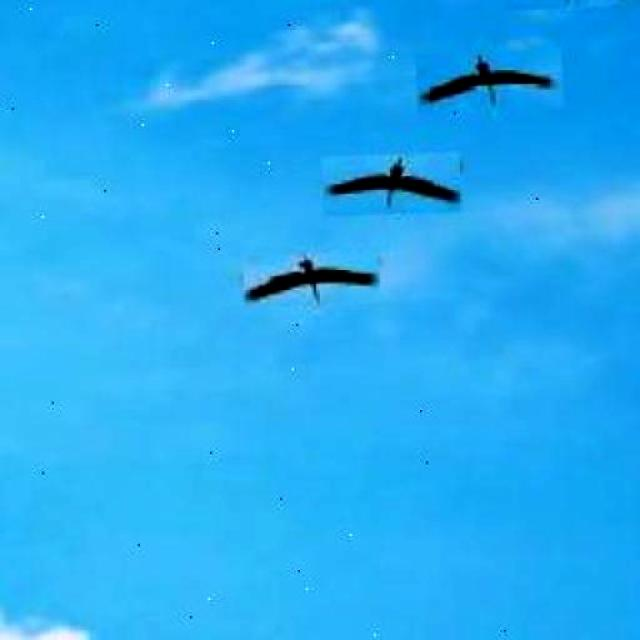airplane: (415, 49, 562, 112), (320, 151, 460, 215), (242, 250, 380, 306)
